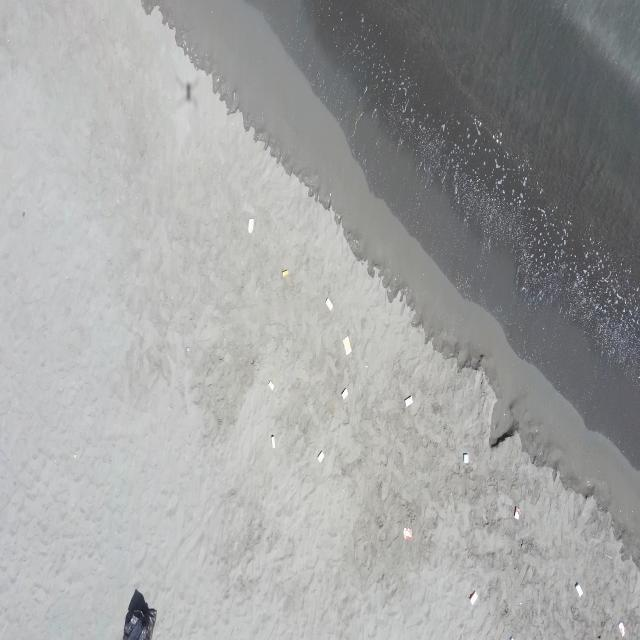Garbage: (123, 588, 155, 639), (342, 335, 351, 355), (316, 449, 324, 462), (468, 592, 476, 604), (575, 582, 582, 595), (324, 297, 331, 310), (404, 527, 411, 540), (617, 622, 624, 635), (340, 387, 347, 399), (247, 218, 253, 232), (512, 507, 519, 519), (404, 396, 412, 406), (267, 380, 273, 390), (280, 268, 287, 276), (271, 433, 275, 447), (462, 452, 467, 463)
